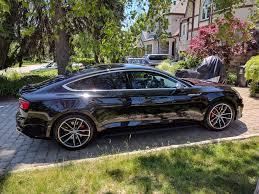non-ambulance: (16, 64, 242, 148)
